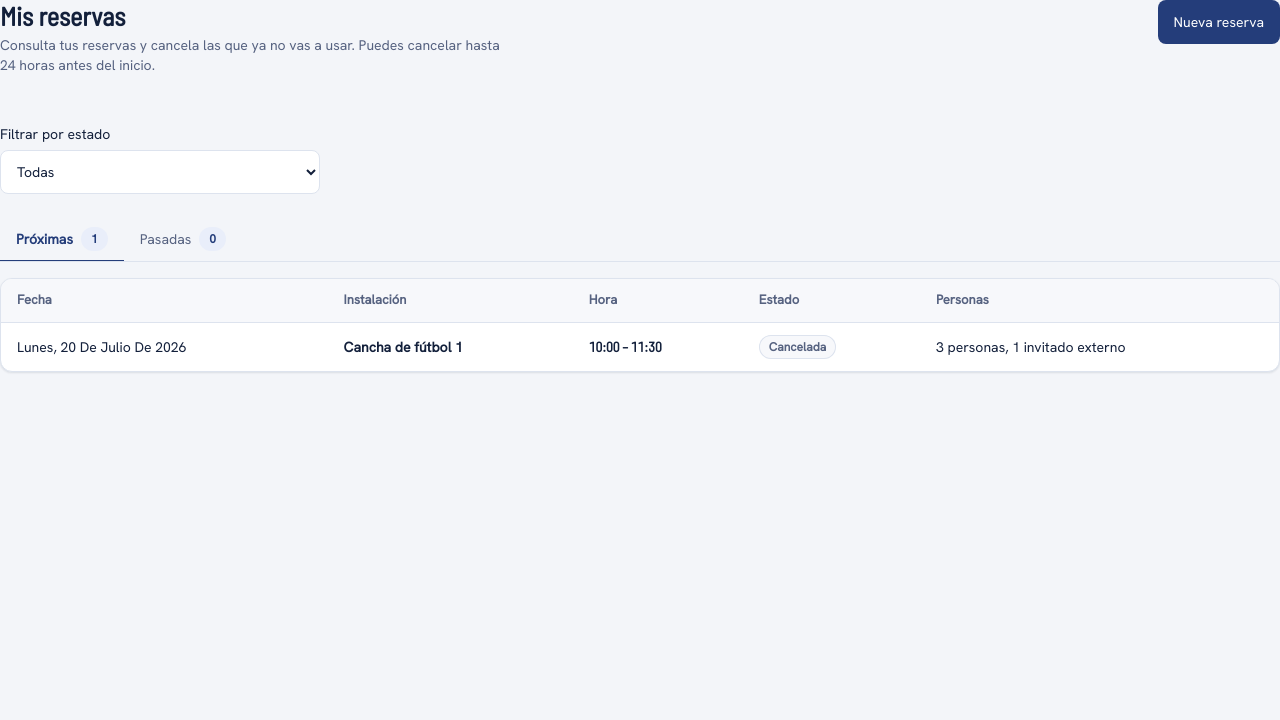
Test case: MyReservationsPage › muestra cuándo se canceló una reserva cancelada
Click the row named "Abrir detalle" at (640, 346), box [1,322,1279,370]
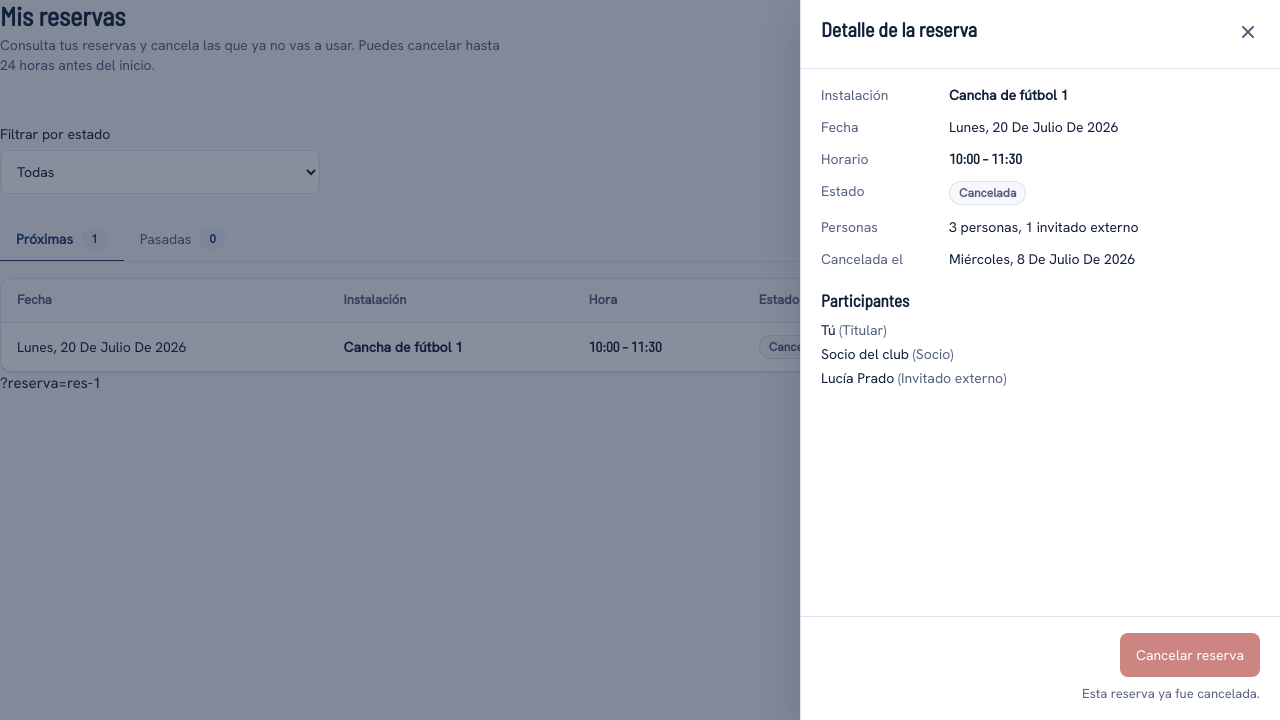
expect the text "Cancelada el" is shown: met, box [821,250,903,268]
expect the text "miércoles, 8 de julio de 2026" is shown: met, box [949,250,1135,268]
expect the text "Esta reserva ya fue cancelada." is shown: met, box [1082,685,1260,704]
